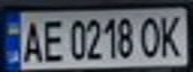0: (66, 16, 87, 62)
1: (100, 15, 118, 60)
2: (84, 15, 103, 61)
8: (115, 13, 139, 60)
A: (18, 17, 45, 64)
E: (39, 16, 66, 64)
K: (157, 11, 187, 58)
O: (136, 12, 163, 60)
